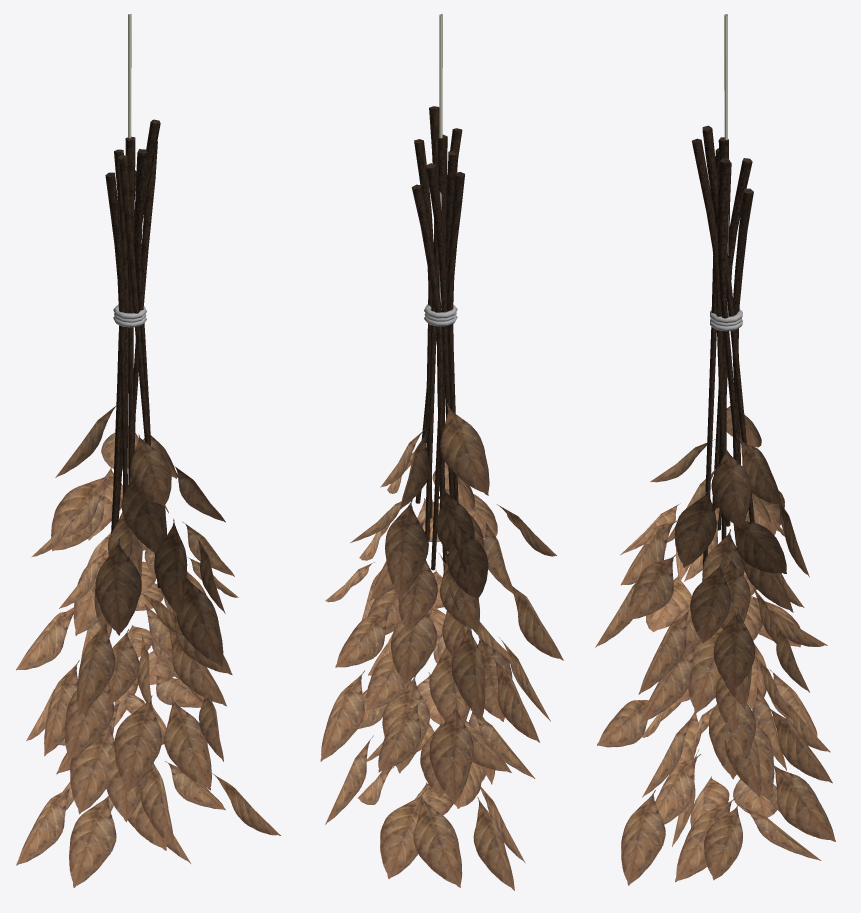
Rendered from SM_Herbs_Hanging_01.fbx.
The picture shows the model from 3 angles, left to right: view 1: azimuth 30°, elevation 25°; view 2: azimuth 150°, elevation 25°; view 3: azimuth 270°, elevation 25°; orthographic projection.
Visible parts, largest first — view 1: SM_Herbs_Hanging_01; view 2: SM_Herbs_Hanging_01; view 3: SM_Herbs_Hanging_01.
Part boxes in pixels (x1,y1,x2,y2): SM_Herbs_Hanging_01: (16,14,280,887); SM_Herbs_Hanging_01: (320,14,563,890); SM_Herbs_Hanging_01: (595,14,835,885).
Size of the model in its own units: 22.57 by 88.71 by 23.57.
Materials: 2 (1 with a texture image).
